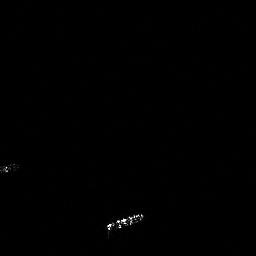ship: (103, 210, 147, 232)
